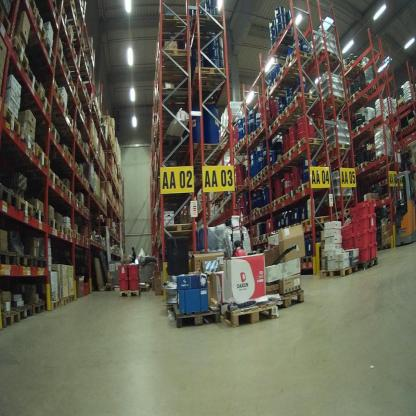forklift: (393, 140, 414, 250)
pallet: (220, 298, 275, 325), (174, 302, 218, 327), (155, 86, 192, 112), (268, 284, 305, 308), (194, 63, 228, 89), (320, 257, 355, 280), (9, 33, 28, 75), (160, 137, 191, 161), (163, 220, 197, 238), (196, 141, 226, 161), (2, 103, 18, 139), (161, 49, 189, 69), (287, 49, 313, 70), (291, 91, 316, 111), (32, 9, 45, 45), (23, 67, 38, 98), (282, 101, 301, 123), (297, 137, 323, 152), (41, 39, 54, 68), (17, 196, 31, 222), (20, 132, 34, 158), (285, 144, 305, 162), (280, 64, 297, 85), (274, 30, 292, 48), (358, 254, 377, 270), (35, 146, 47, 171), (2, 312, 18, 330), (301, 217, 329, 227), (15, 255, 32, 270), (1, 191, 18, 206), (49, 124, 60, 147), (37, 95, 50, 114), (57, 150, 72, 166), (47, 166, 56, 192), (55, 45, 65, 68), (0, 253, 16, 267), (297, 179, 313, 193), (51, 84, 61, 104), (32, 302, 45, 317), (21, 304, 33, 320), (33, 209, 45, 225), (287, 187, 301, 200), (32, 258, 47, 270), (59, 101, 67, 122), (24, 1, 34, 16), (59, 179, 65, 202), (46, 216, 58, 227), (65, 185, 72, 203), (59, 223, 66, 237), (275, 114, 282, 127), (66, 65, 70, 85), (277, 154, 285, 164), (51, 301, 59, 310), (67, 227, 73, 237), (280, 196, 287, 204), (62, 298, 68, 307), (68, 294, 74, 303), (16, 310, 19, 321)
small_load_carrier: (347, 199, 368, 222), (350, 214, 369, 234), (357, 245, 372, 268), (355, 231, 370, 250), (127, 261, 141, 278), (368, 190, 377, 214), (117, 263, 130, 279), (340, 236, 354, 250), (128, 278, 141, 292), (368, 214, 380, 228), (368, 228, 380, 241), (117, 278, 128, 292), (340, 222, 351, 236), (372, 240, 379, 259)
